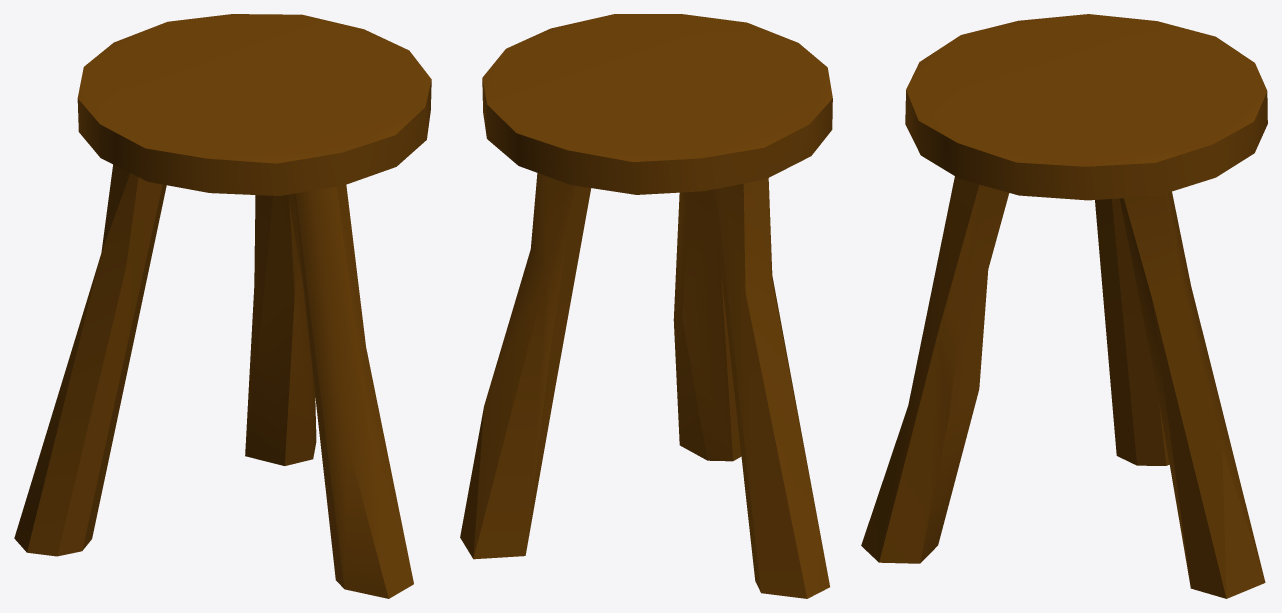
The model's file is stool.fbx.
The picture shows the model from 3 angles, left to right: view 1: azimuth 30°, elevation 25°; view 2: azimuth 150°, elevation 25°; view 3: azimuth 270°, elevation 25°; orthographic projection. The views are drawn at different scales.
Visible parts, largest first — view 1: stool_Cylinder.008; view 2: stool_Cylinder.008; view 3: stool_Cylinder.008.
Boxes of the visible parts, x1,y1,x2,y2 form: stool_Cylinder.008: [14, 14, 431, 598]; stool_Cylinder.008: [460, 14, 832, 598]; stool_Cylinder.008: [861, 14, 1267, 598].
Size of the model in its own units: 34.68 by 40.74 by 33.77.
